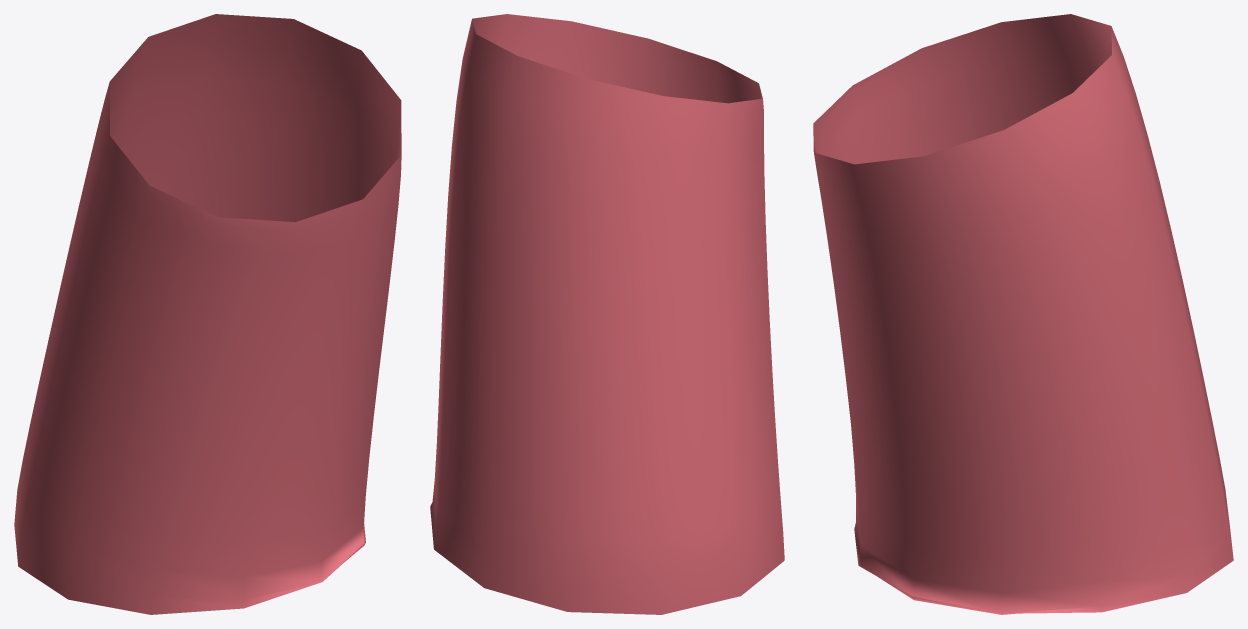
3 renders of one model, left to right at view 1: azimuth 30°, elevation 25°; view 2: azimuth 150°, elevation 25°; view 3: azimuth 270°, elevation 25°, orthographic. The views are drawn at different scales.
Parts seen in each view (by area): view 1: ZA_005d68f5710e71e9; view 2: ZA_005d68f5710e71e9; view 3: ZA_005d68f5710e71e9.
Boxes of the visible parts, left/top/right/bottom form: ZA_005d68f5710e71e9: left=14, top=14, right=401, bottom=614; ZA_005d68f5710e71e9: left=430, top=14, right=784, bottom=614; ZA_005d68f5710e71e9: left=813, top=14, right=1233, bottom=614.
Size of the model in its own units: 0.0249 by 0.0377 by 0.027.
